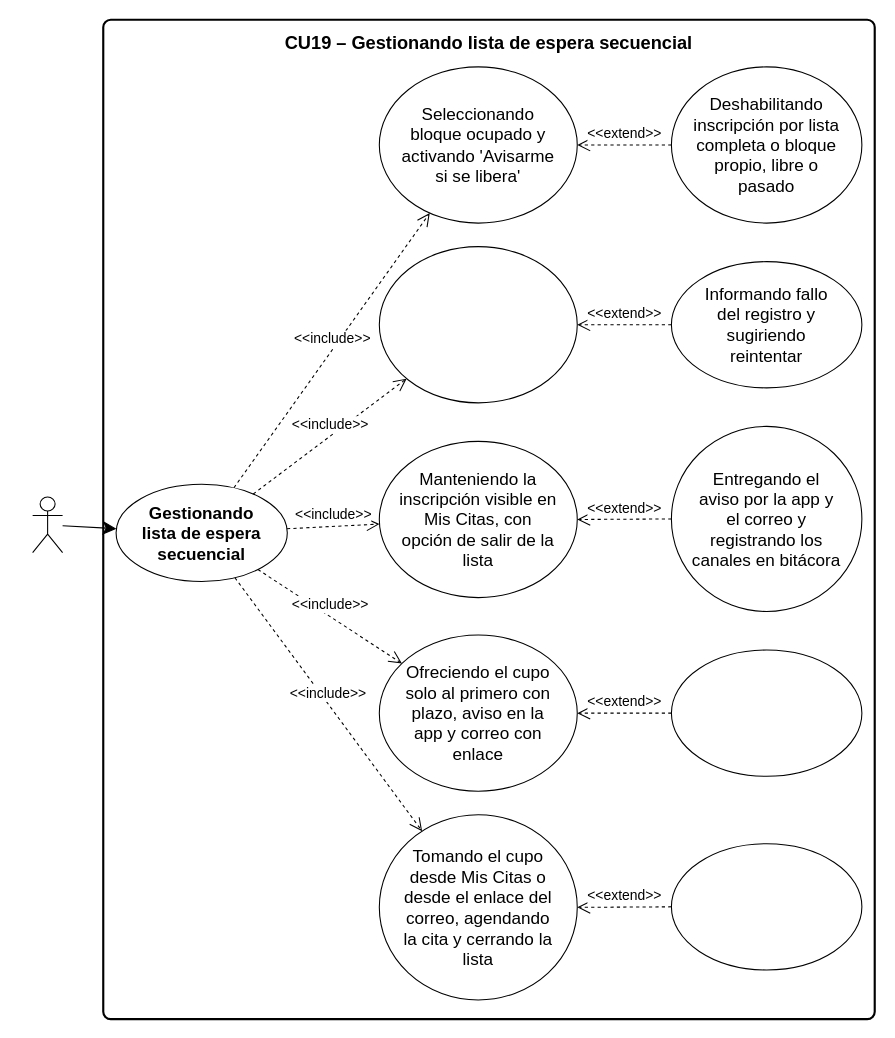
Image size: 895x1038. Some labels were removed from this diagram. The centre of each missing label's shape, as x and y in pixels:
"Informando bloque ocupado nuevamente y venciendo el turno" goes at pixel 766 906.
"Paciente" goes at pixel 47 524.
"Registrando posición según orden de llegada y mostrándola en Mis Citas" goes at pixel 477 324.
"Revocando prioridad y transfiriendo oportunidad" goes at pixel 766 712.
